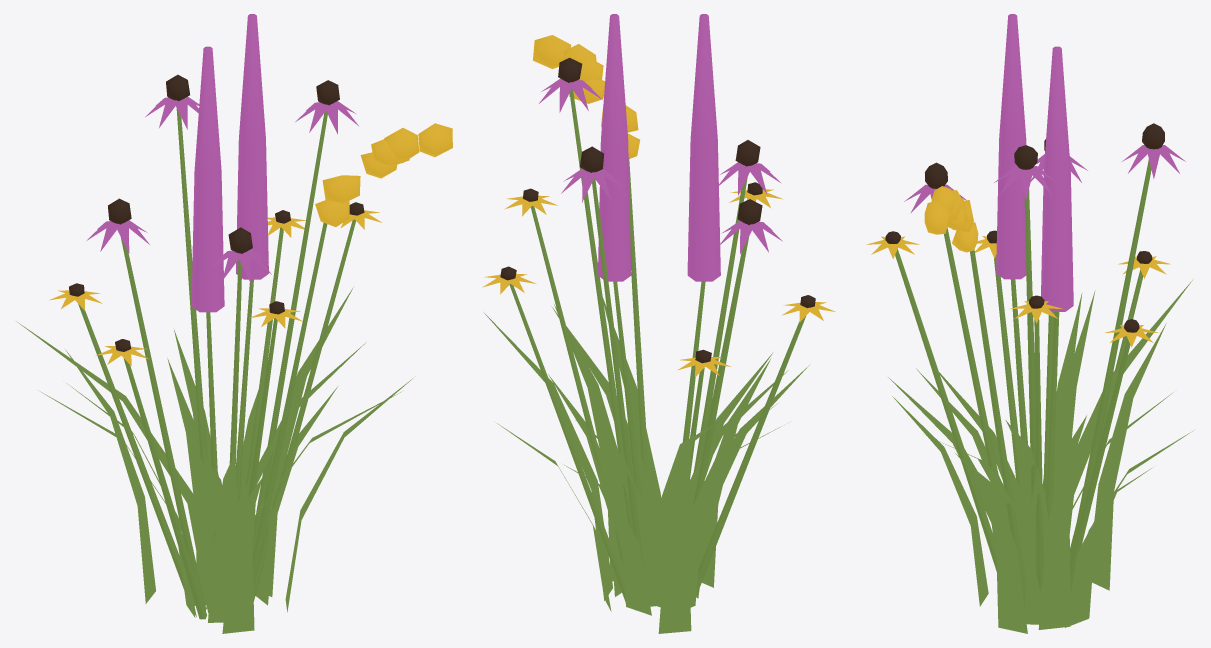
The model's file is Blender_PrairieForbs_1.glb.
3 renders of one model, left to right at view 1: azimuth 30°, elevation 25°; view 2: azimuth 150°, elevation 25°; view 3: azimuth 270°, elevation 25°, orthographic.
Visible parts, largest first — view 1: Blender_PrairieForbs_1; view 2: Blender_PrairieForbs_1; view 3: Blender_PrairieForbs_1.
Boxes of the visible parts, <box> form: Blender_PrairieForbs_1: <box>16,14,452,633</box>; Blender_PrairieForbs_1: <box>482,14,835,633</box>; Blender_PrairieForbs_1: <box>866,14,1193,633</box>.
Bounding box in the file's own units: 0.5186 × 0.8479 × 0.4404.
